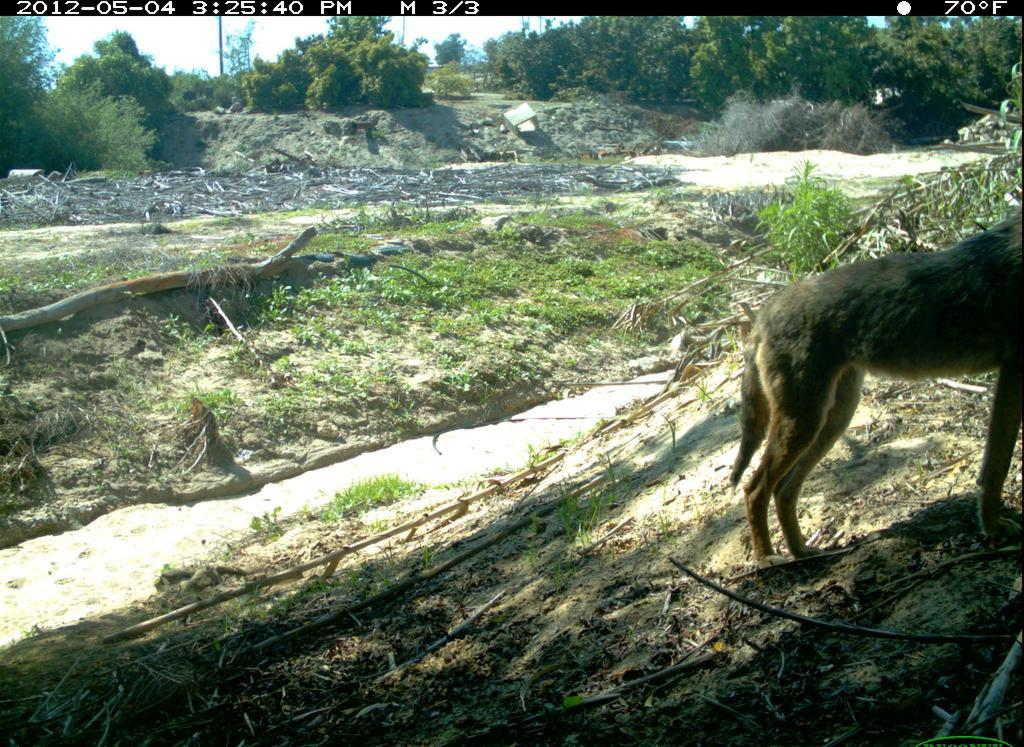coyote: (720, 199, 1023, 578)
